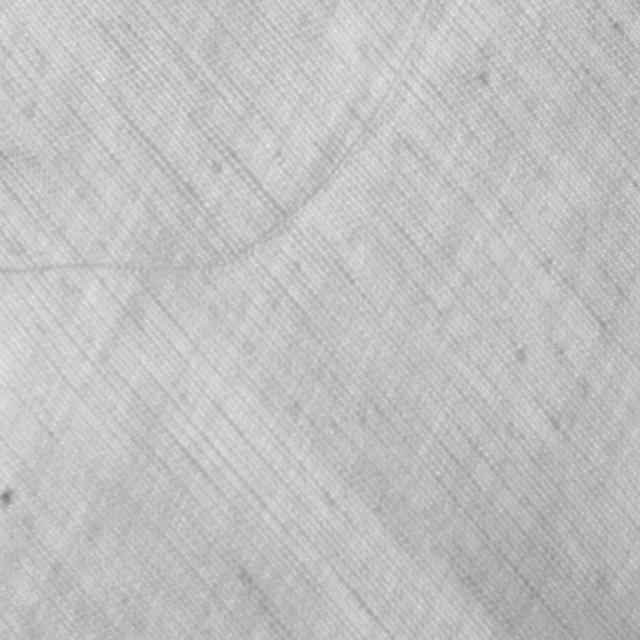objects: (0, 0, 437, 280)
